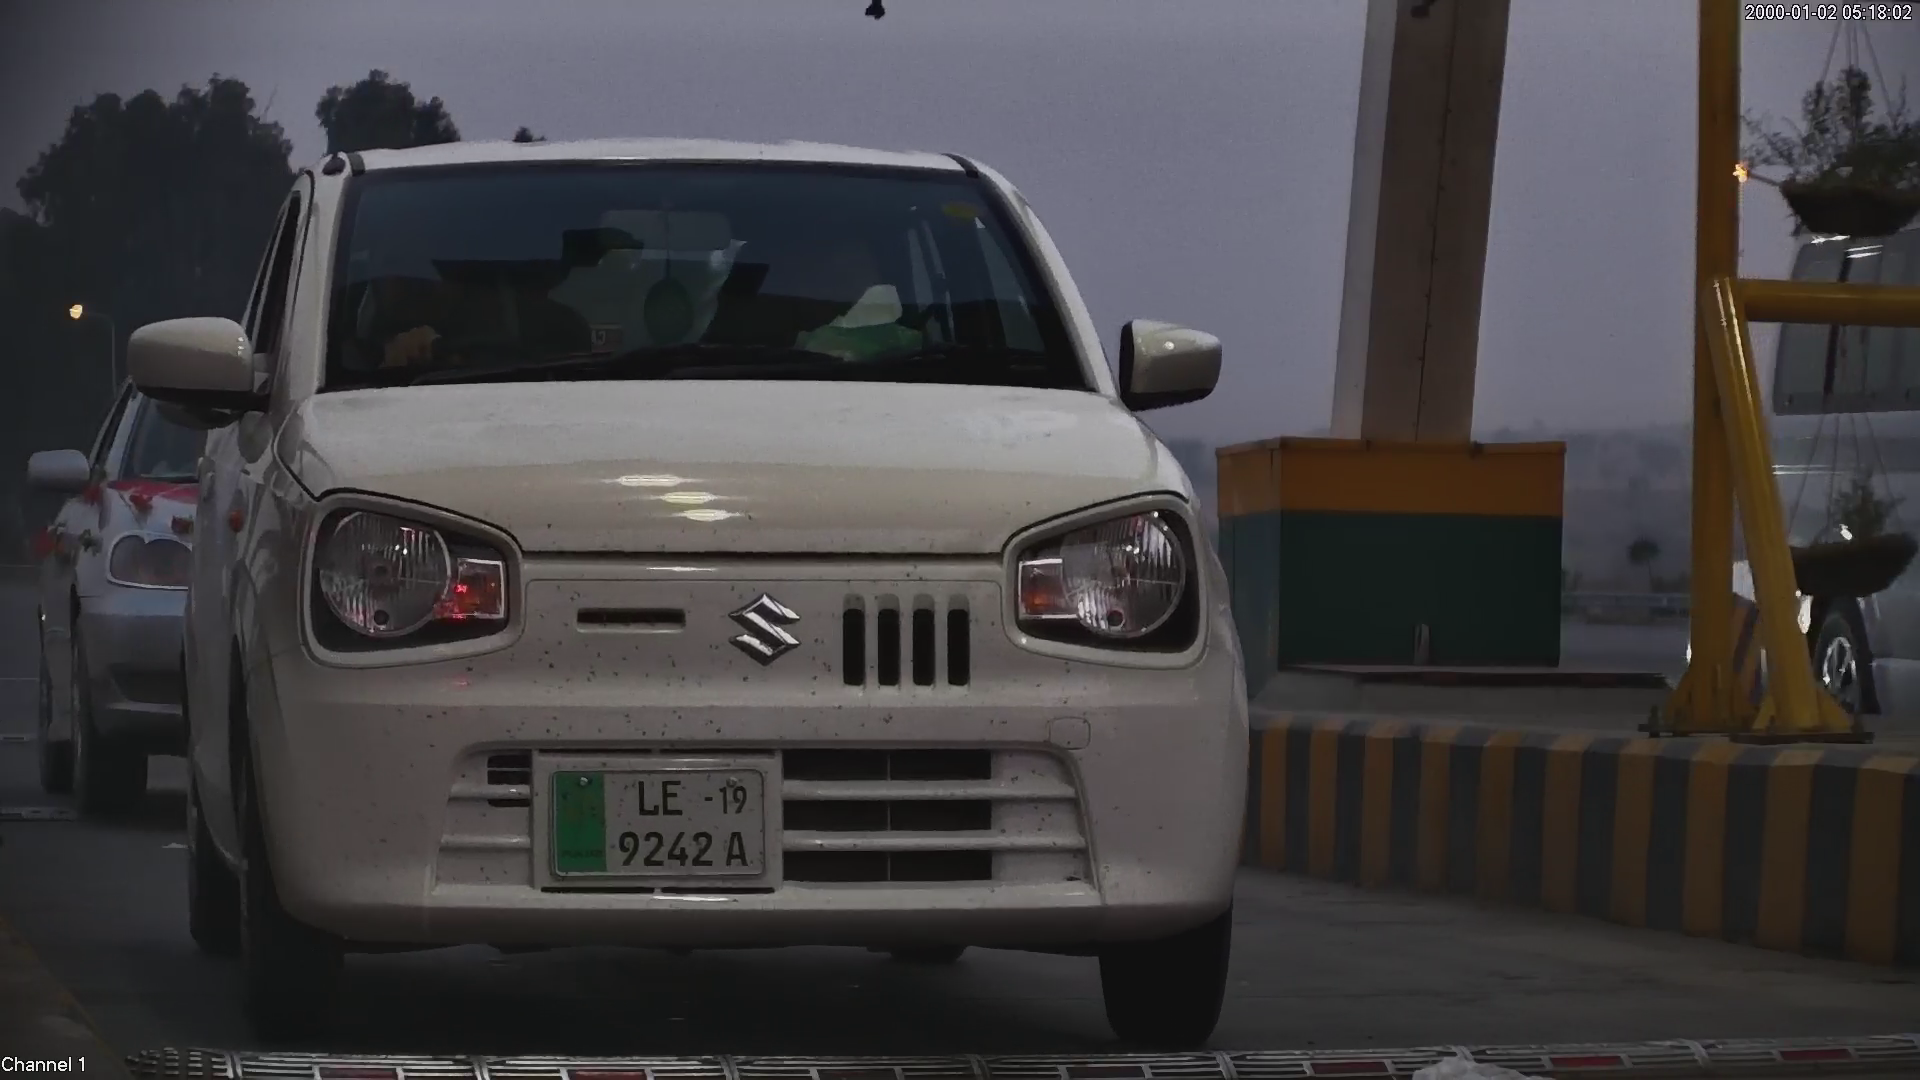Number_Plate: (545, 758, 775, 895)
